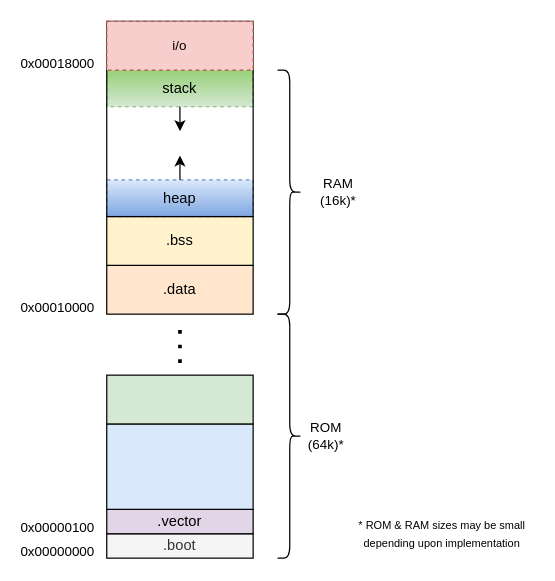
This 555x581 diagram has some shape labels left out. Here are the shapes that lost their labels. From the top down, the centre of each, then its label:
At [179,399]: ".rodata".
At [179,466]: ".text".
